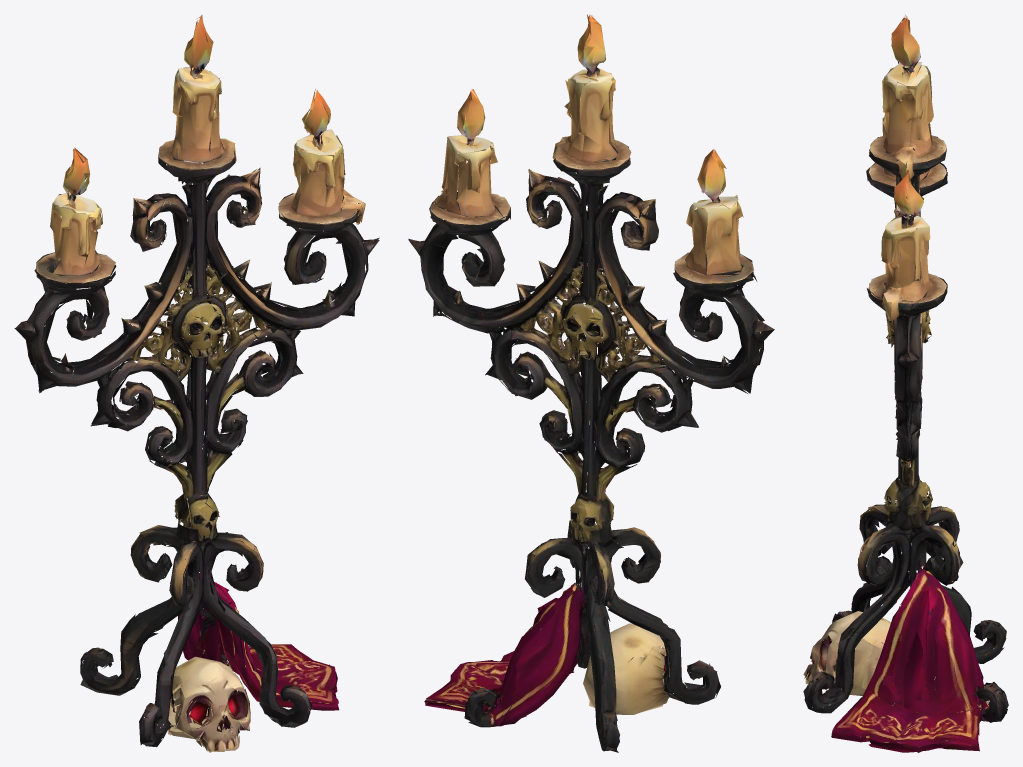
The model's file is candelabra.glb.
The picture shows the model from 3 angles, left to right: view 1: azimuth 30°, elevation 25°; view 2: azimuth 150°, elevation 25°; view 3: azimuth 270°, elevation 25°; orthographic projection. The views are drawn at different scales.
Parts seen in each view (by area): view 1: Mesh_0; view 2: Mesh_0; view 3: Mesh_0.
Boxes of the visible parts, x1,y1,x2,y2 form: Mesh_0: (14, 15, 379, 752); Mesh_0: (408, 14, 774, 752); Mesh_0: (803, 15, 1008, 752).
Size of the model in its own units: 1.06 by 1.92 by 0.5278.
Materials: 1 (1 with a texture image).
